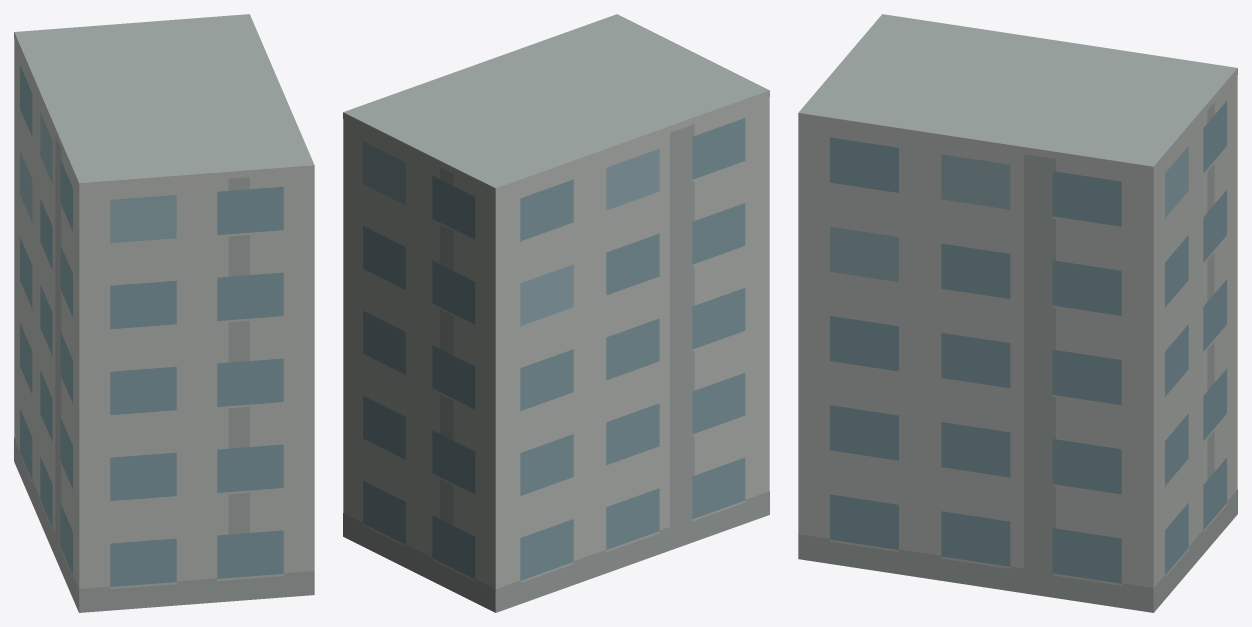
The model's file is residential-3b3f3bd6-1ed4-4a3f-980a-ca775f050bae.glb.
The picture shows the model from 3 angles, left to right: view 1: azimuth 30°, elevation 25°; view 2: azimuth 150°, elevation 25°; view 3: azimuth 270°, elevation 25°; orthographic projection. The views are drawn at different scales.
Visible parts, largest first — view 1: residential-3b3f3bd6-1ed4-4a3f-980a-ca775f050bae.tmp; view 2: residential-3b3f3bd6-1ed4-4a3f-980a-ca775f050bae.tmp; view 3: residential-3b3f3bd6-1ed4-4a3f-980a-ca775f050bae.tmp.
Part boxes in pixels (<box>): residential-3b3f3bd6-1ed4-4a3f-980a-ca775f050bae.tmp: <box>14,14,314,612</box>; residential-3b3f3bd6-1ed4-4a3f-980a-ca775f050bae.tmp: <box>343,14,769,612</box>; residential-3b3f3bd6-1ed4-4a3f-980a-ca775f050bae.tmp: <box>798,14,1237,612</box>.
Bounding box in the file's own units: 11.2 × 15.25 × 13.63.
